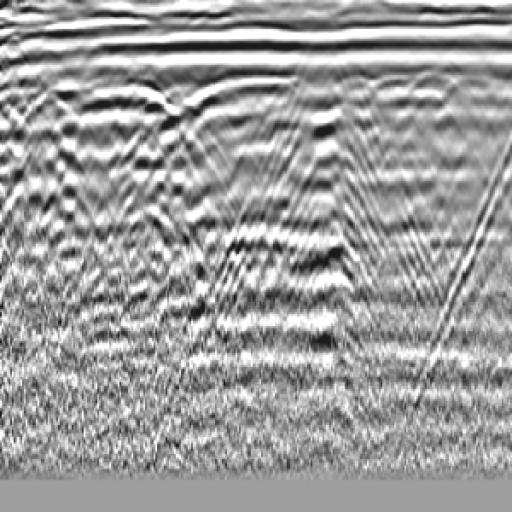metalic: (284, 92, 363, 184), (205, 65, 309, 118)
